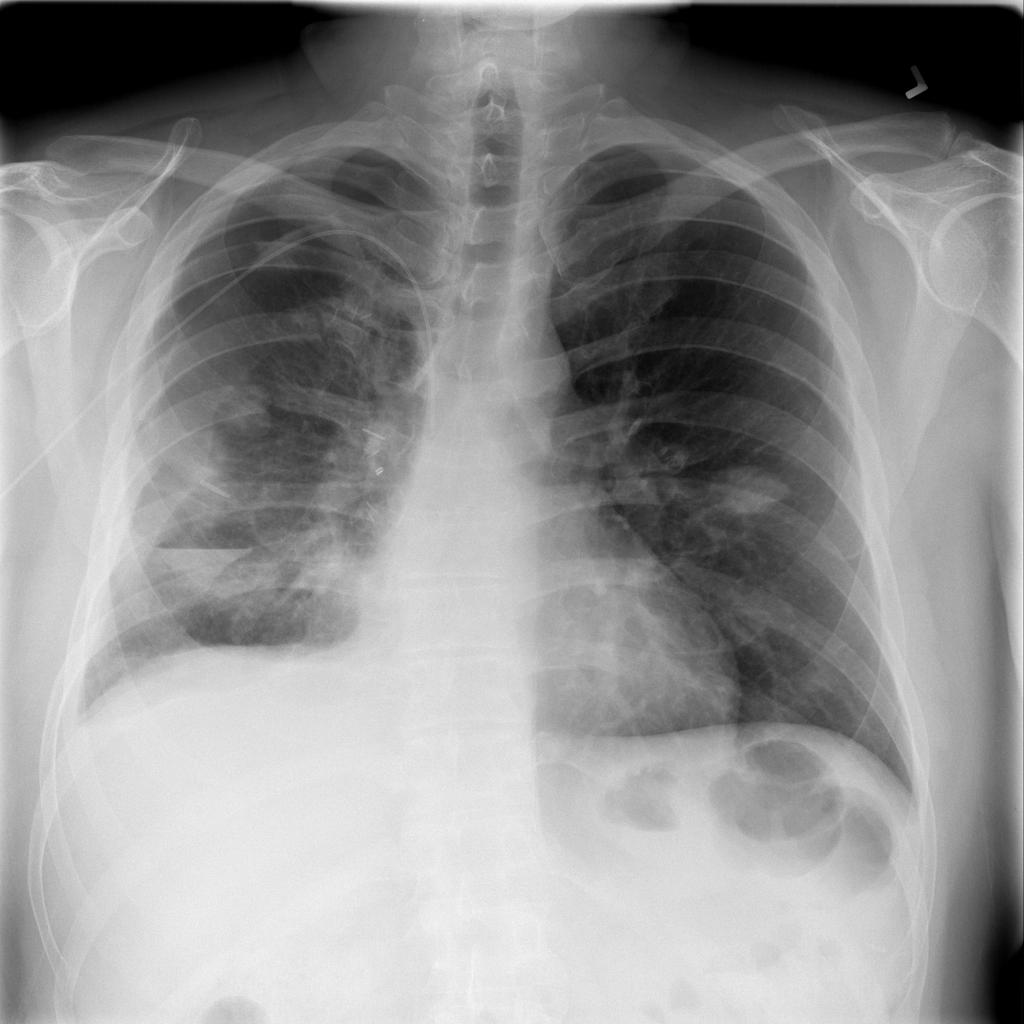nodule: (689, 442, 810, 535)
